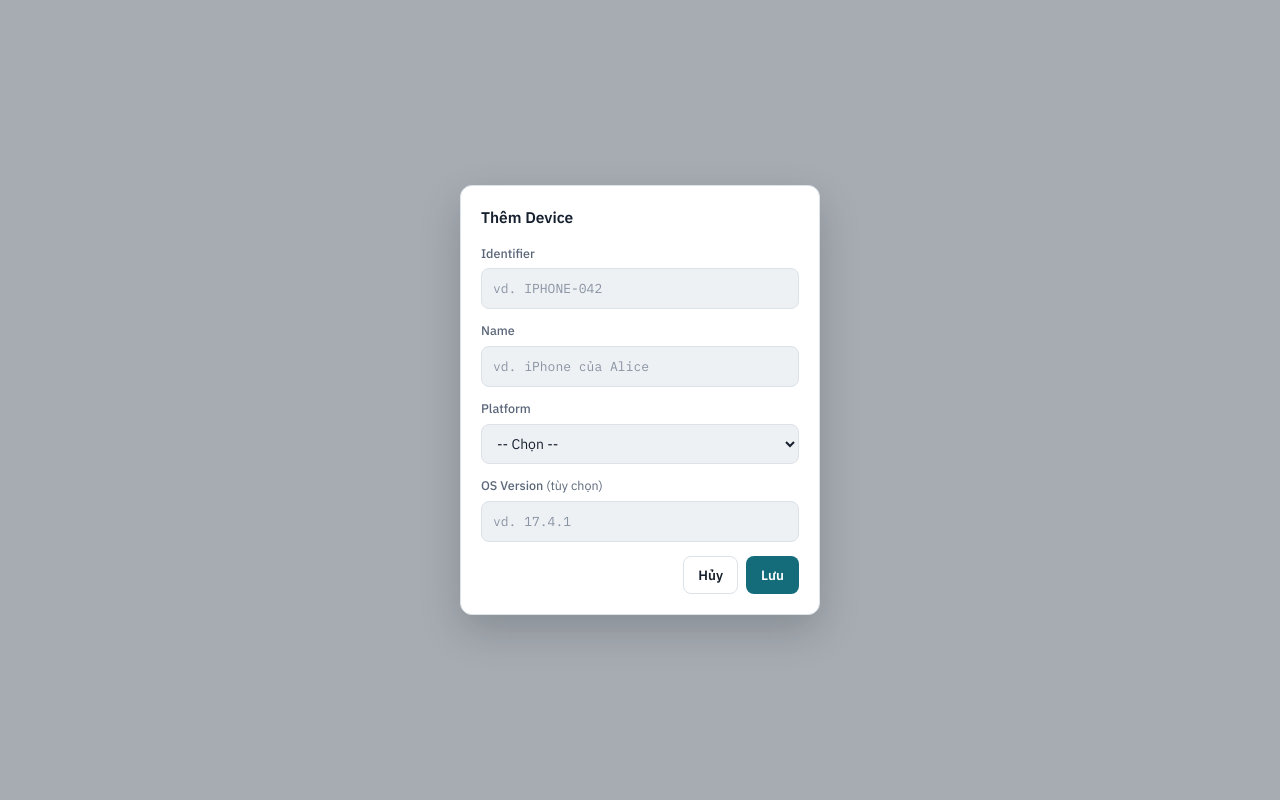
Test: DeviceFormModal › shows the generic fallback banner on an infra error (no usable body)
This screenshot has width=1280, height=800.
Type "IPHONE-042" into the field with test id "device-form-identifier" at {"x": 640, "y": 289}, box top-left (481, 268), bottom-right (799, 309)
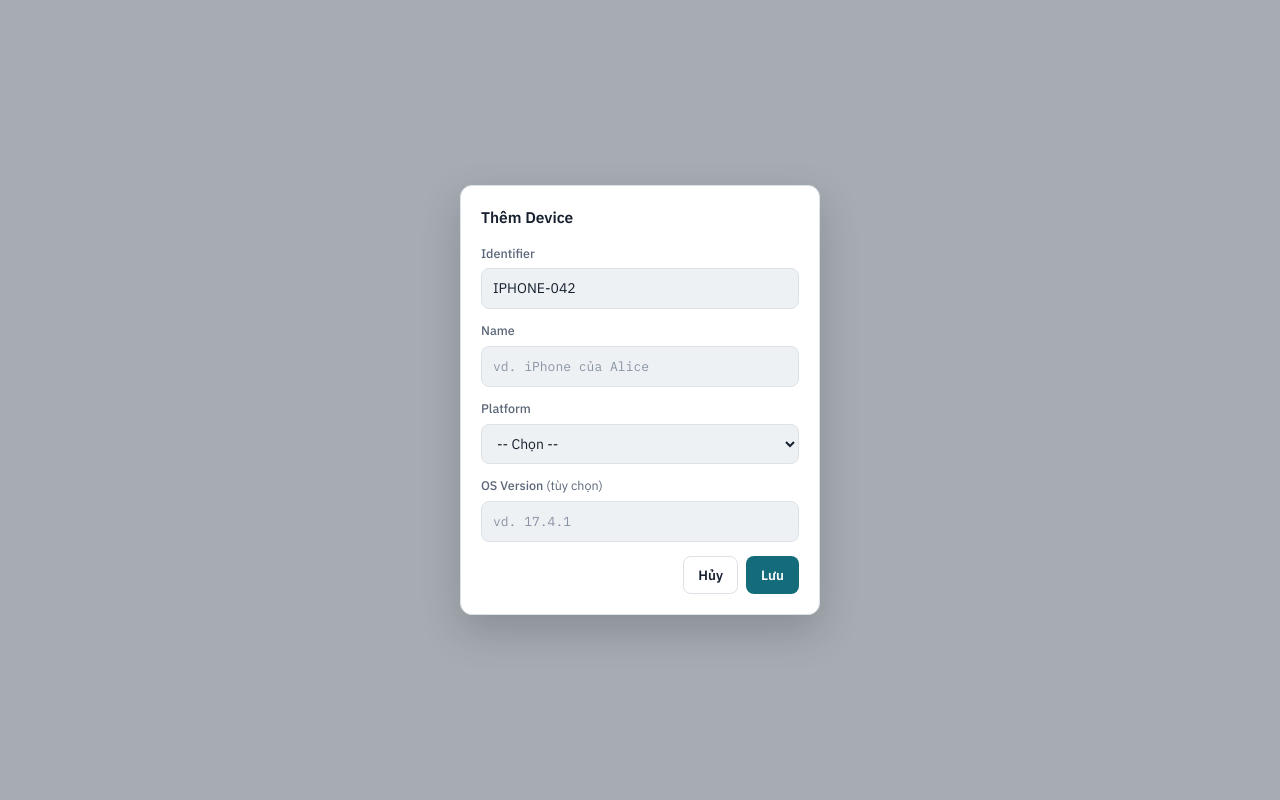
Type "Alice iPhone" into the field with test id "device-form-name" at {"x": 640, "y": 366}, box top-left (481, 346), bottom-right (799, 387)
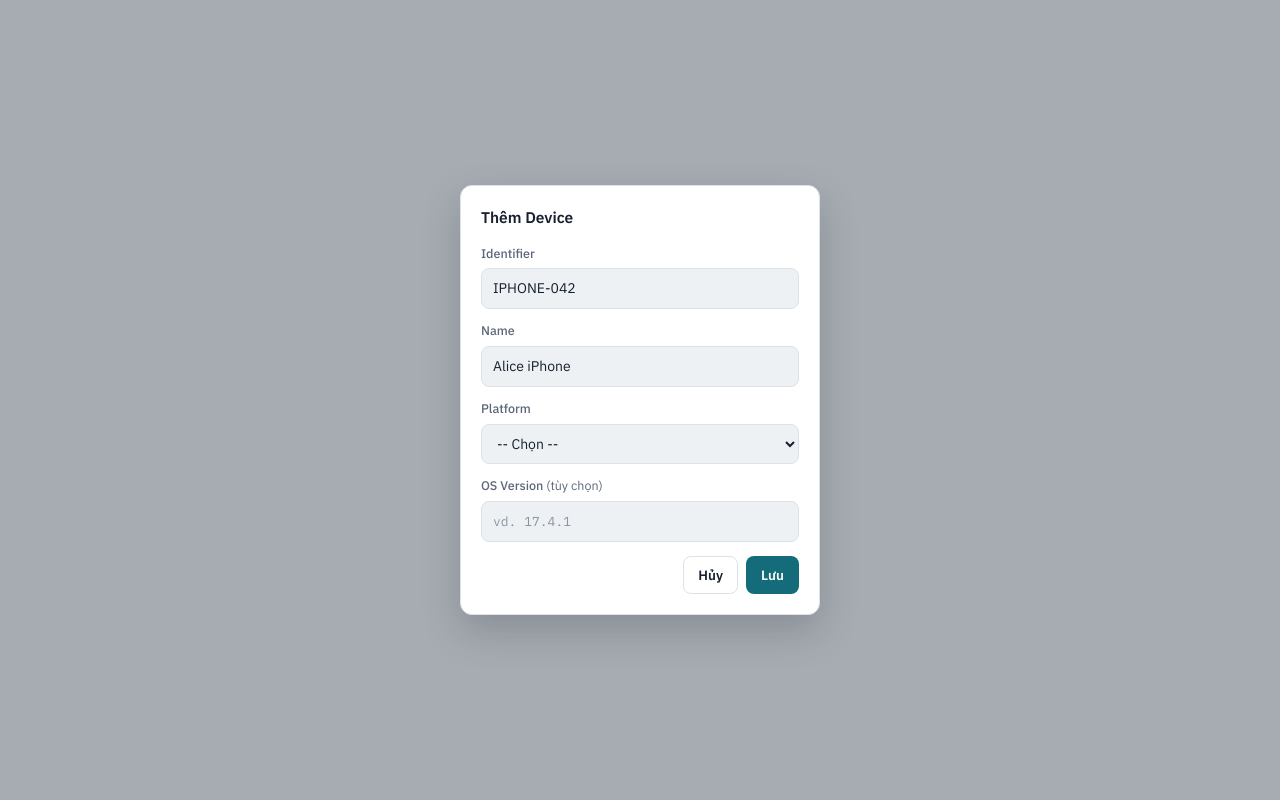
Select "ios" in the dropdown with test id "device-form-platform" at {"x": 640, "y": 444}, box top-left (481, 424), bottom-right (799, 464)
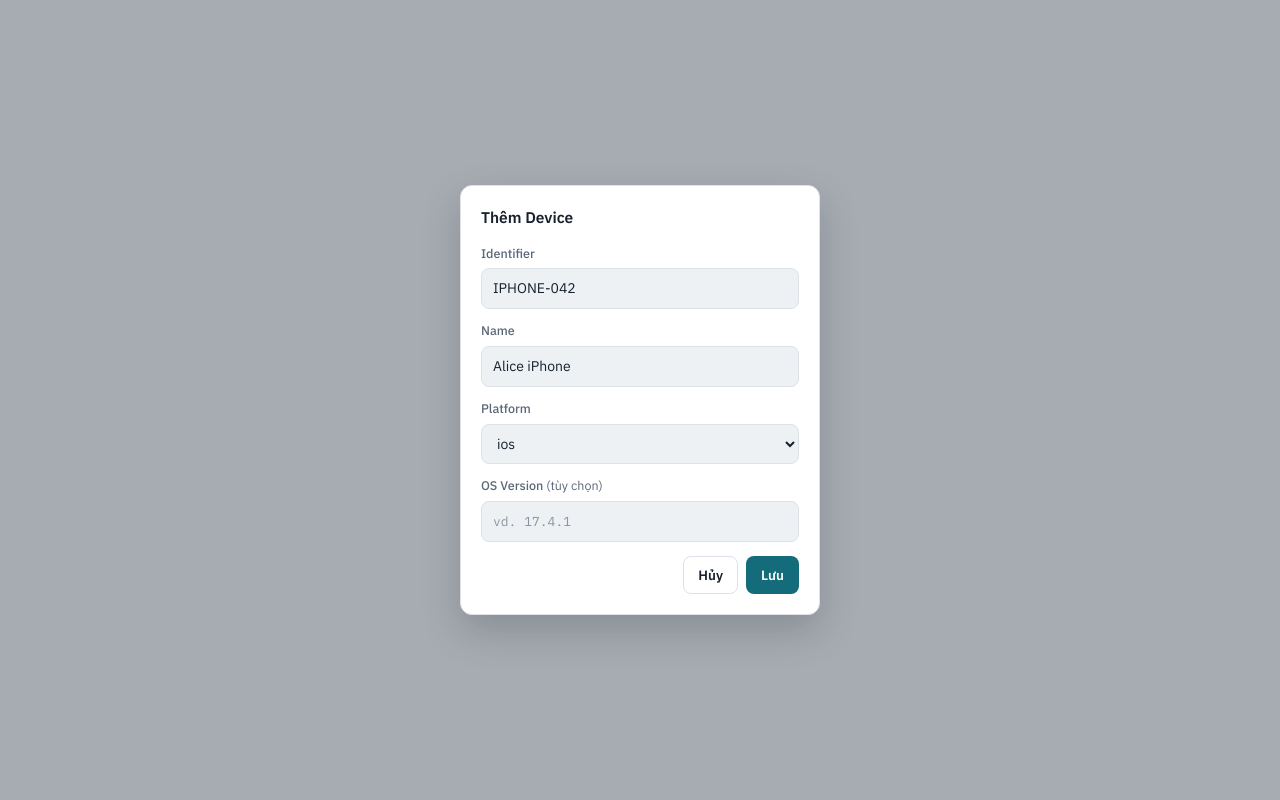
Submit the form, box top-left (460, 185), bottom-right (820, 615)
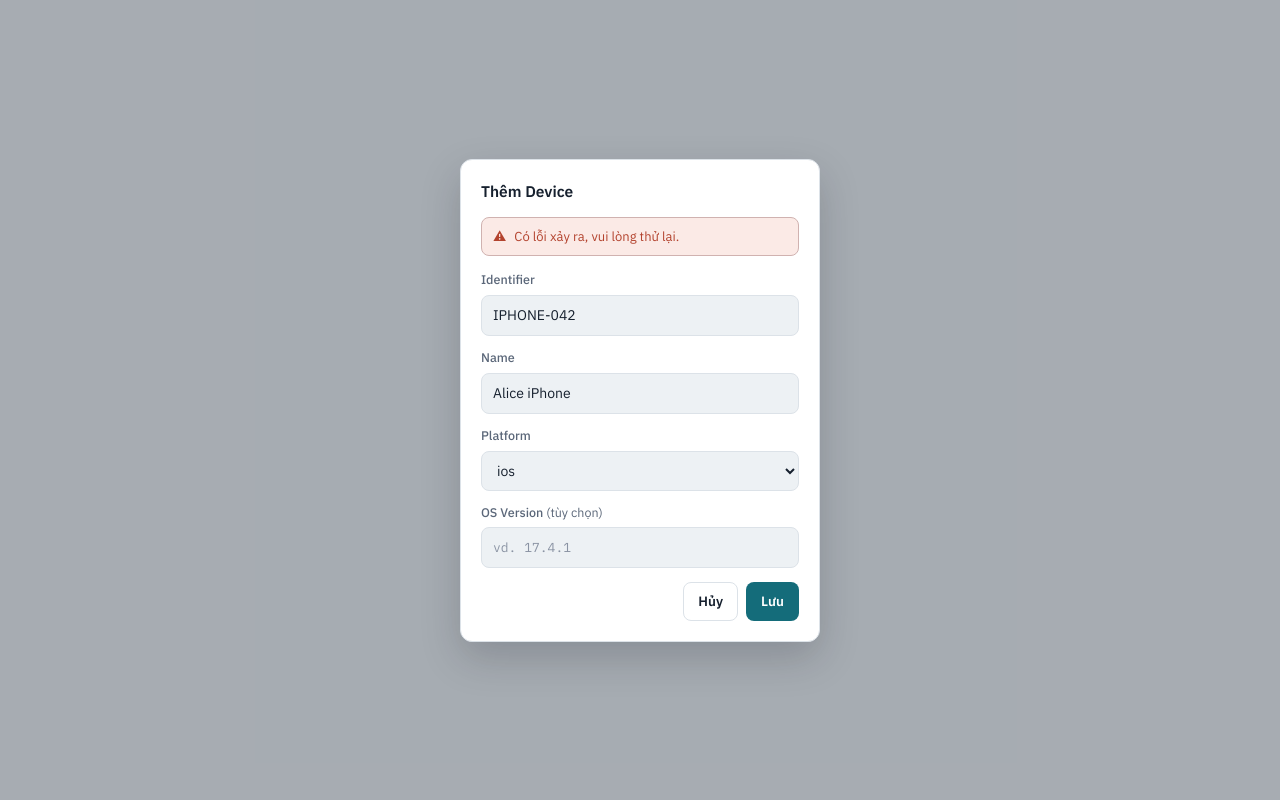
Result: the message with test id "device-form-banner" shows "Có lỗi xảy ra, vui lòng thử lại." at top-left (514, 228), bottom-right (679, 245)
